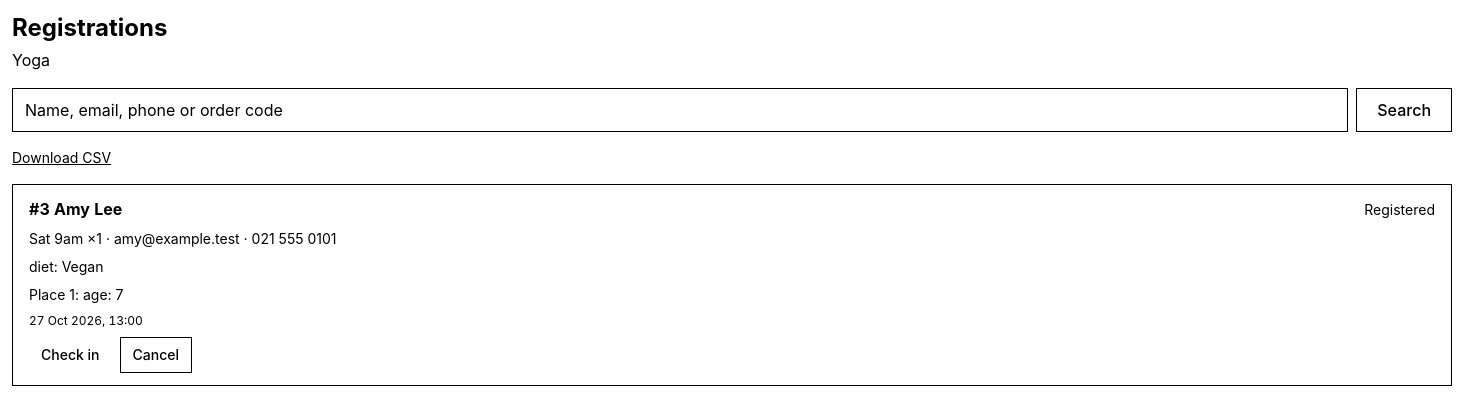
Test: OrderList (merchant registrations) › shows each registration with its answers and checks a buyer in
Expected: the list item shows "#3 Amy Lee", [13,185,1451,385]
Expected: the list item shows "diet: Vegan", [29,258,104,275]
Click the button "Check in".
click(70, 355)  # box [29,337,112,373]
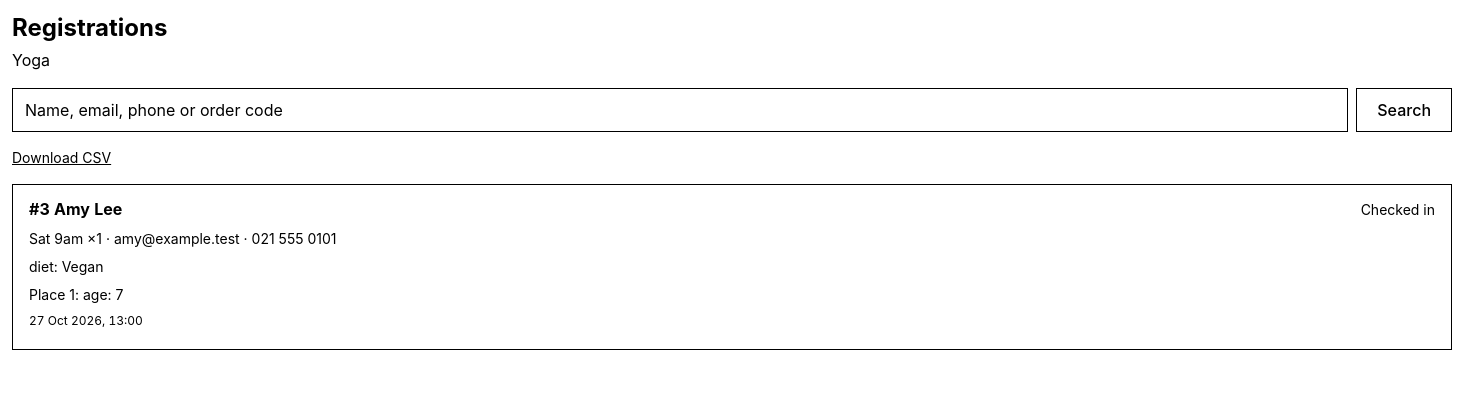
Expected: the list item shows "Checked in", [1361,201,1435,218]
Expected: the button "Check in" is gone
